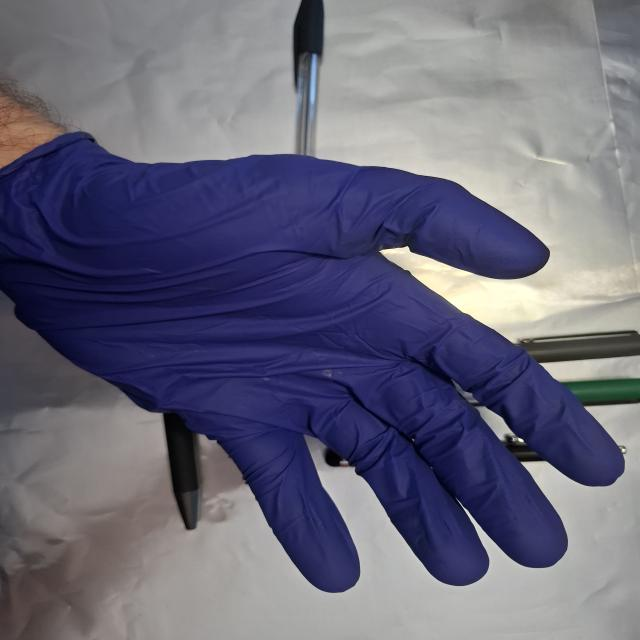glove_on: (3, 128, 629, 596)
